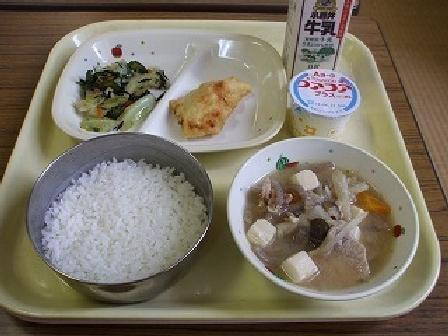Cup desserts: (282, 64, 367, 149)
Milk: (276, 0, 366, 76)
Rice: (20, 136, 210, 301)
Salad: (65, 49, 164, 135)
Soups: (226, 141, 415, 300)
cutlet: (162, 70, 252, 142)
